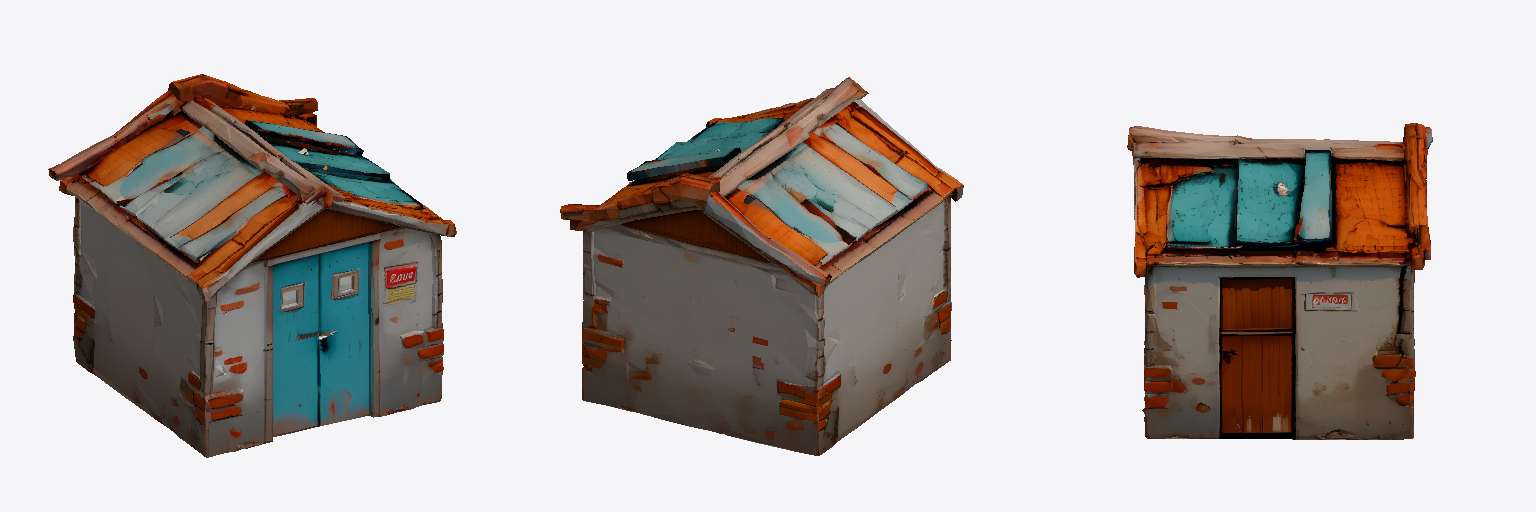
3 views of the same model, side by side, from view 1: azimuth 30°, elevation 25°; view 2: azimuth 150°, elevation 25°; view 3: azimuth 270°, elevation 25° (orthographic).
Parts seen in each view (by area): view 1: 1_1234_30_5.0_256_8000; view 2: 1_1234_30_5.0_256_8000; view 3: 1_1234_30_5.0_256_8000.
Part boxes in pixels (bbox=[...]): 1_1234_30_5.0_256_8000: bbox=[48, 74, 456, 457]; 1_1234_30_5.0_256_8000: bbox=[560, 77, 963, 455]; 1_1234_30_5.0_256_8000: bbox=[1127, 123, 1432, 439].
Bounding box in the file's own units: 1.97 × 1.79 × 1.96.
Materials: 1 (1 with a texture image).